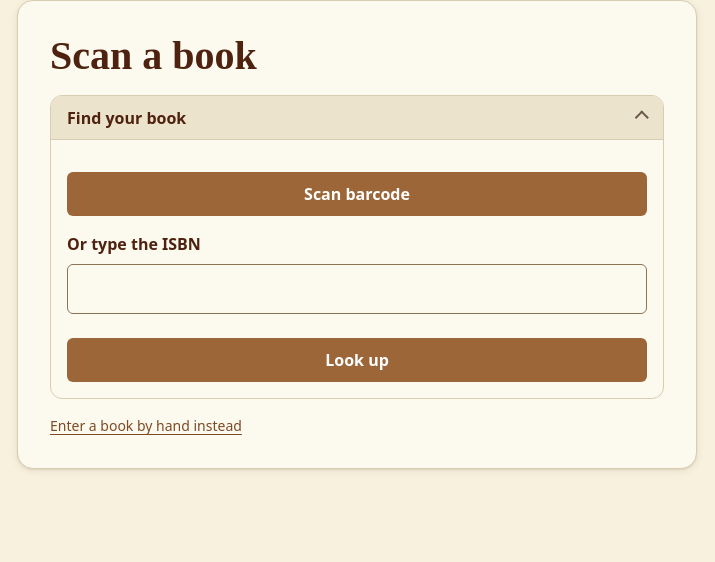
Test: US-02: adding a book by ISBN › CT-18 shows a message and adds nothing when the lookup service is unavailable
Type "9780441013593" into the field labelled "Or type the ISBN" at [357, 289], box [67,264,647,314]
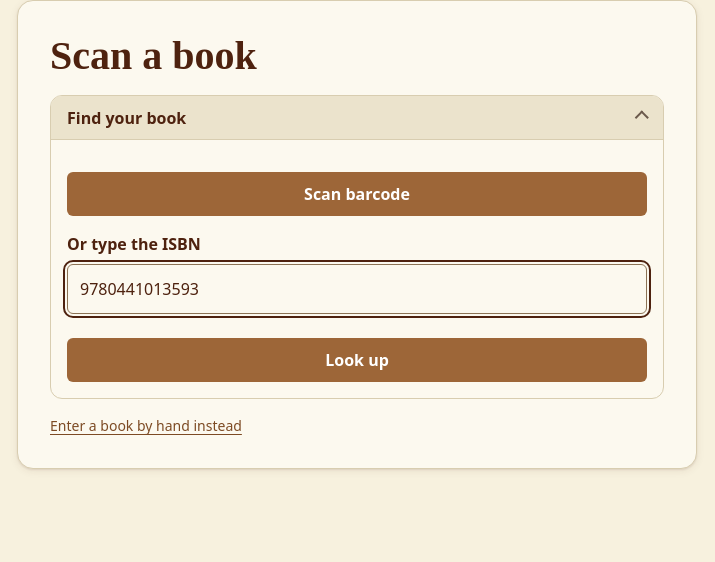
Click the button "Look up" at [357, 360], box [67,338,647,382]
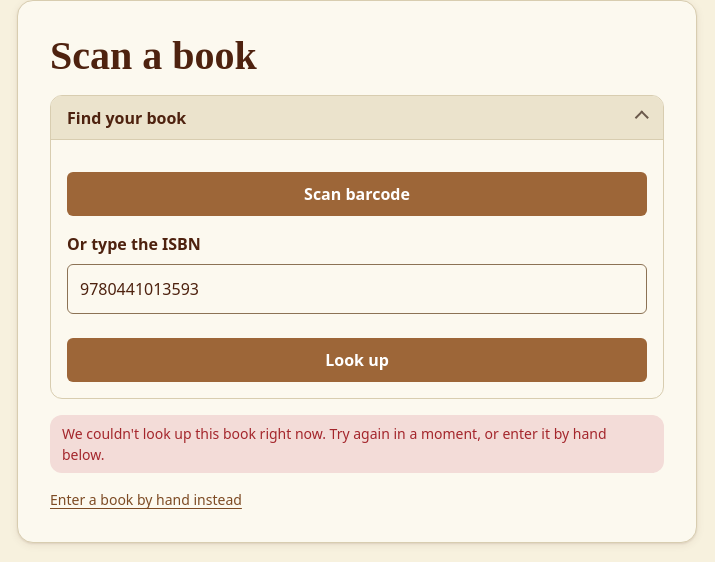
Check: the message shows "We couldn't look up this book right now.", box [62,424,606,464]
